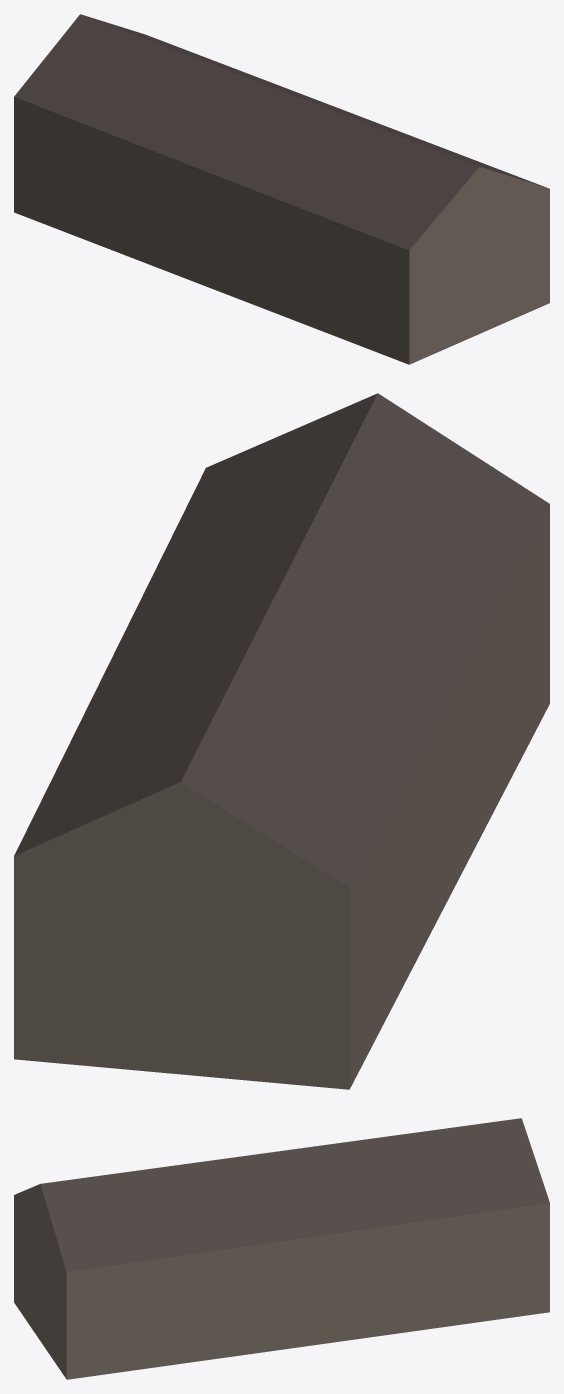
The picture shows the model from 3 angles, top to bottom: view 1: azimuth 30°, elevation 25°; view 2: azimuth 150°, elevation 25°; view 3: azimuth 270°, elevation 25°; orthographic projection. The views are drawn at different scales.
Parts seen in each view (by area): view 1: HP-w1516161925; view 2: HP-w1516161925; view 3: HP-w1516161925.
Boxes of the visible parts, x1=… form: HP-w1516161925: x1=14, y1=14, x2=549, y2=364; HP-w1516161925: x1=14, y1=393, x2=549, y2=1089; HP-w1516161925: x1=14, y1=1118, x2=549, y2=1379.
Bounding box in the file's own units: 16.98 × 8.78 × 27.13.
